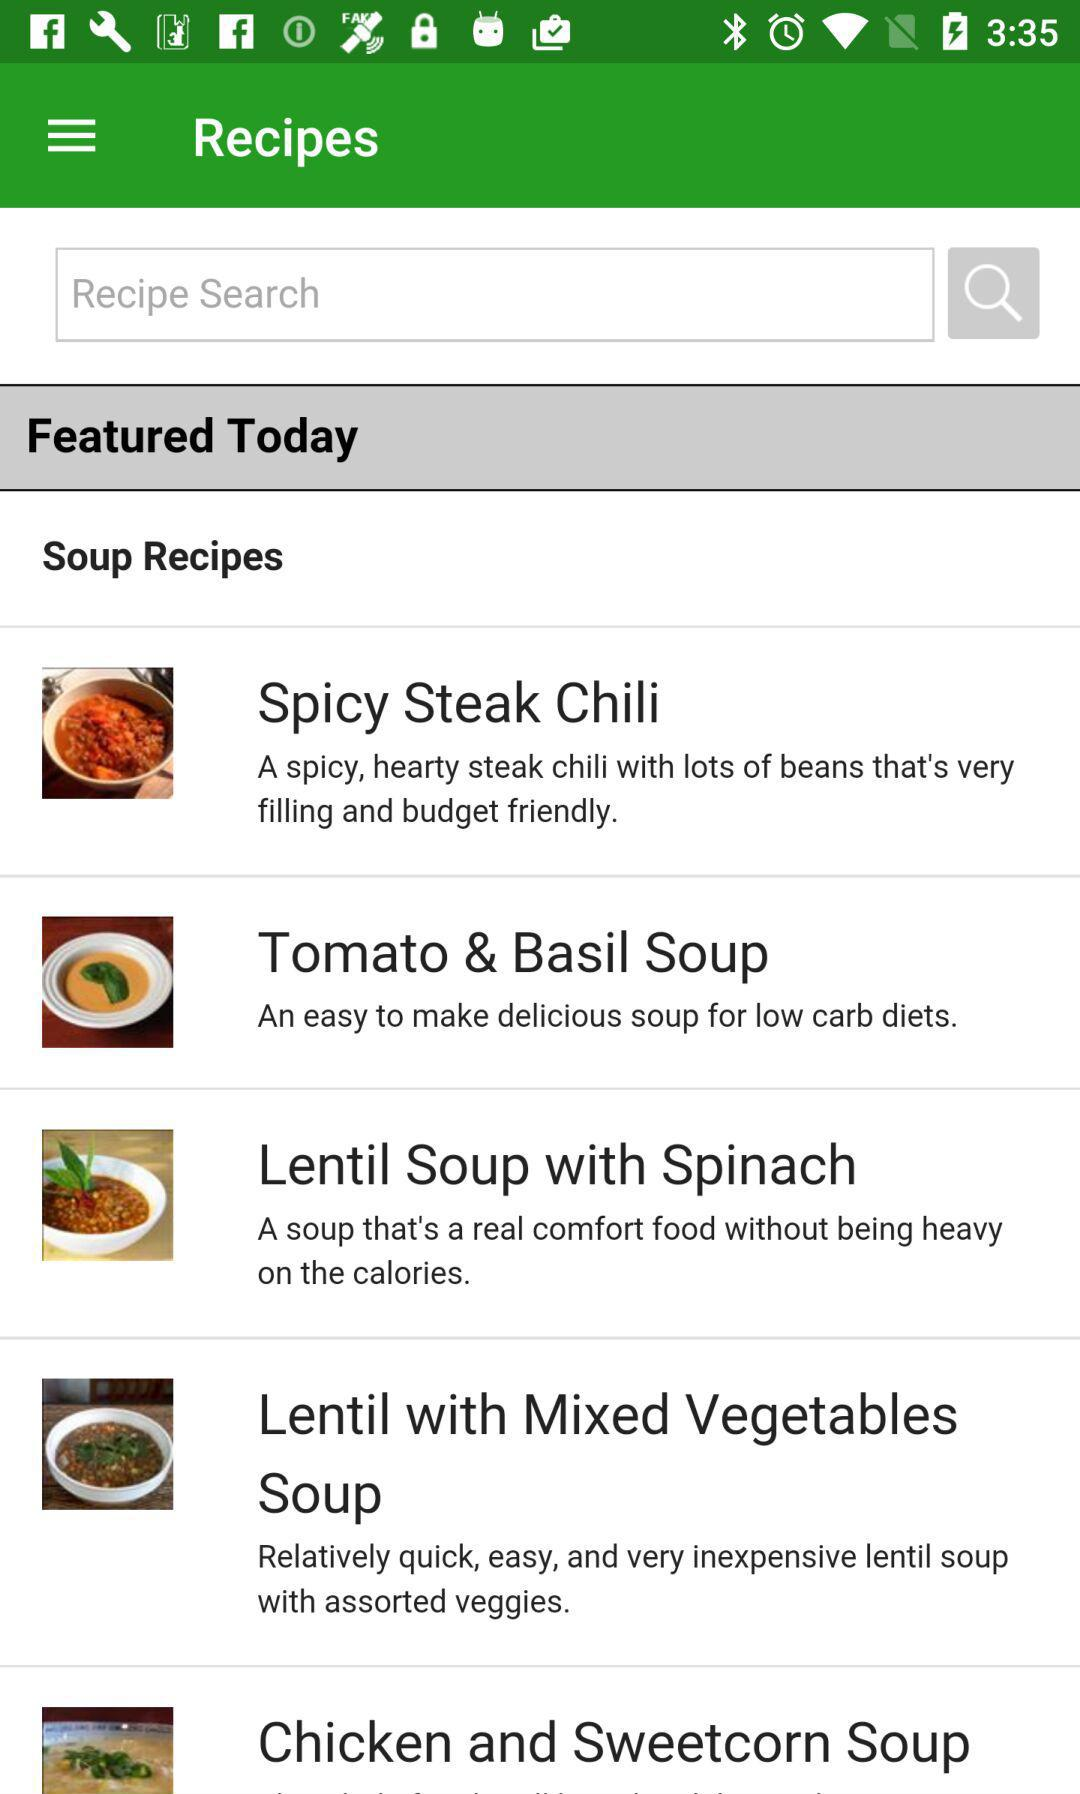EditText: (55, 249, 935, 343)
Icon: (948, 249, 1040, 340), (47, 119, 97, 154)
Image: (42, 1129, 176, 1262), (42, 916, 176, 1049), (42, 1378, 174, 1511), (42, 668, 176, 800), (44, 1707, 176, 1794)
Text: (259, 1392, 958, 1526), (258, 1542, 1010, 1621), (258, 752, 1015, 830), (258, 1215, 1003, 1287), (260, 1718, 970, 1775), (261, 1140, 856, 1198), (258, 929, 769, 985), (258, 1002, 957, 1035), (259, 679, 660, 736), (29, 416, 360, 465), (74, 276, 319, 317), (42, 539, 284, 580), (195, 117, 379, 170)
Toolbar: (3, 65, 1080, 208)
UpperTaskBar: (1, 1, 1080, 64)
